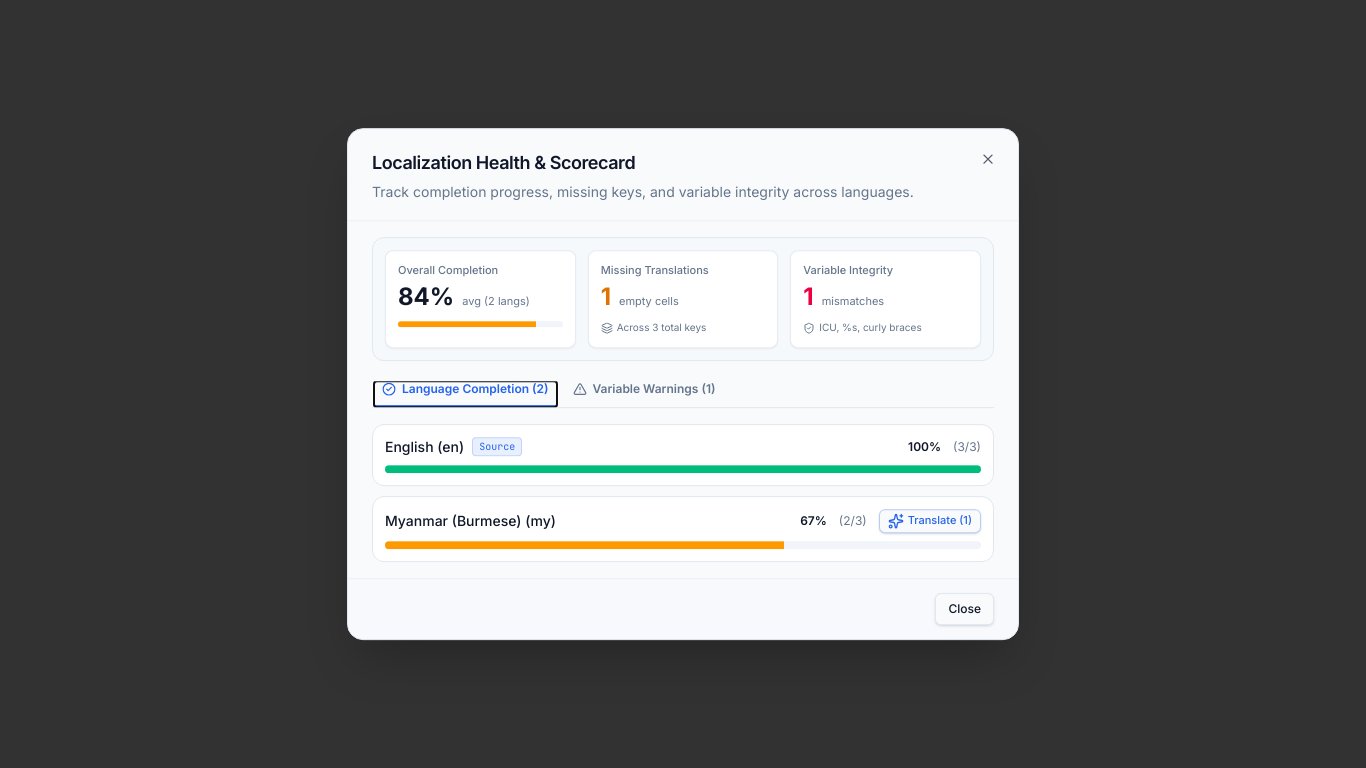
ScorecardModal › switches to variables tab and shows variable mismatch details
Click the button "Variable Warnings (1)" at [644, 394], box x1=565 y1=381 x2=724 y2=407
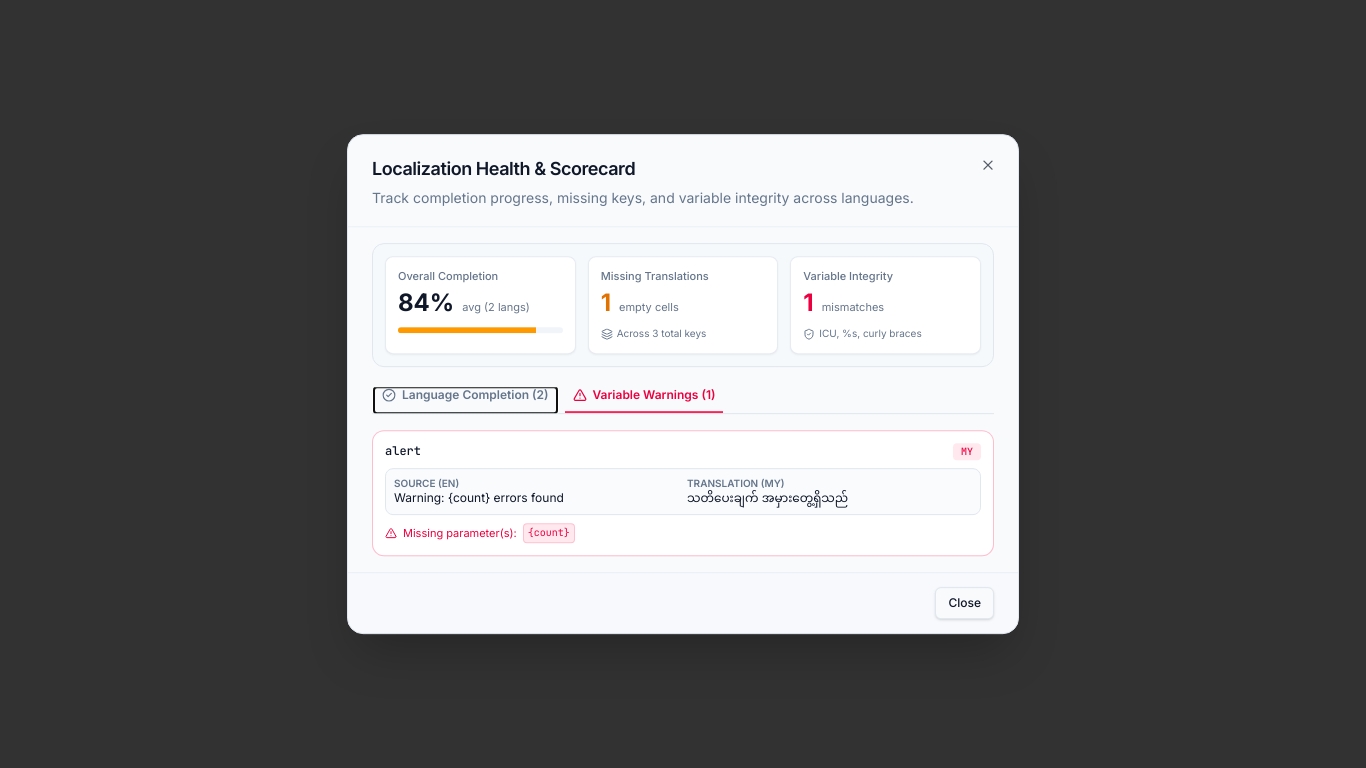
Check: the text "alert" is shown, box x1=385 y1=444 x2=421 y2=460
Check: the text "{count}" is shown, box x1=523 y1=524 x2=575 y2=543
